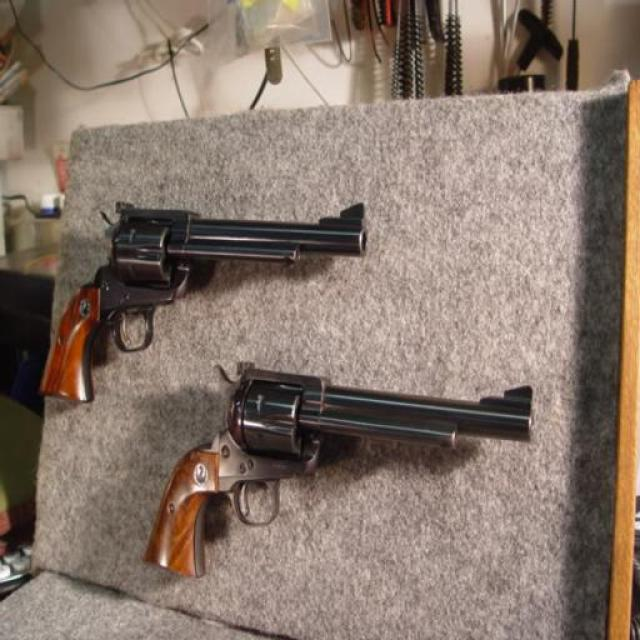pistol: (141, 362, 536, 571), (35, 193, 370, 409)
